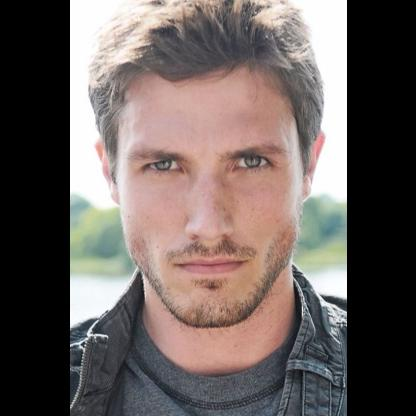Male: (92, 64, 322, 326)
